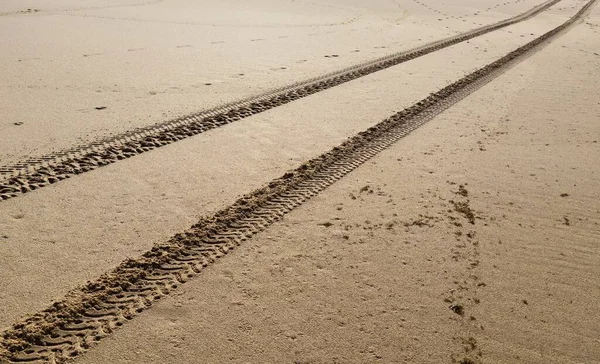vehicle_track: (0, 0, 598, 362), (0, 0, 560, 200)
